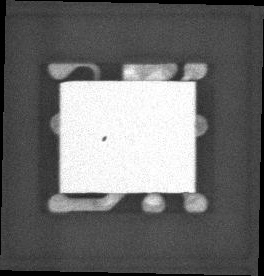DIE_INK: (96, 139, 104, 151)
